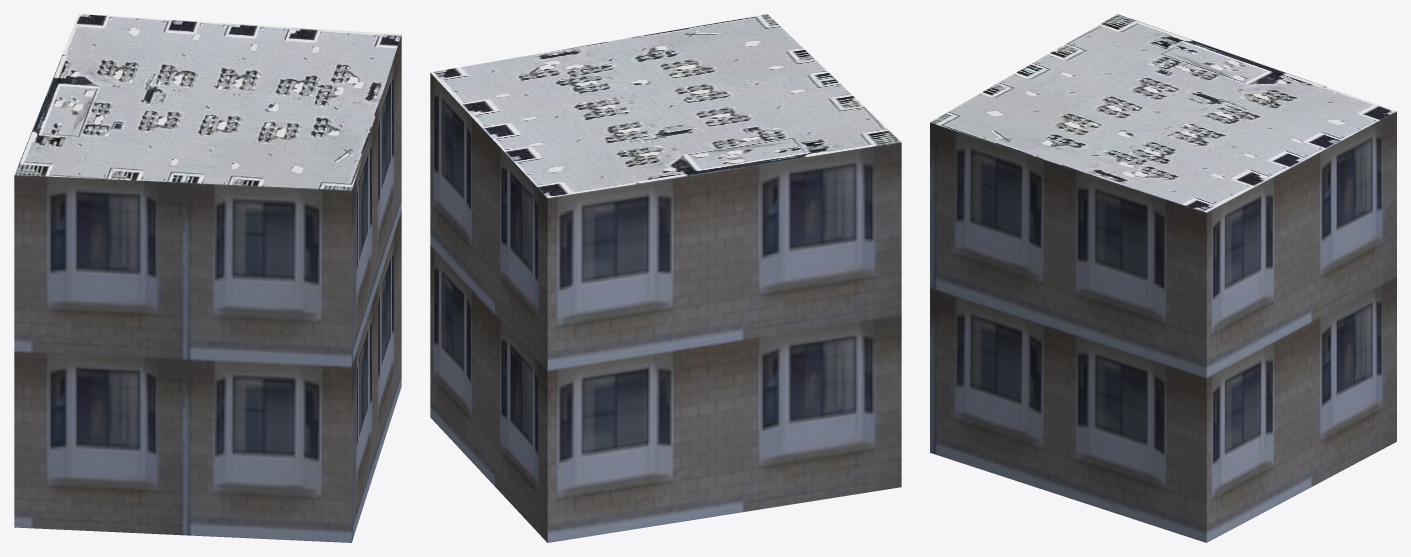
The model's file is ResTex__339.fbx.
The picture shows the model from 3 angles, left to right: view 1: azimuth 30°, elevation 25°; view 2: azimuth 150°, elevation 25°; view 3: azimuth 270°, elevation 25°; orthographic projection. The views are drawn at different scales.
Visible parts, largest first — view 1: CityEngineMaterial_3_m, CityEngineMaterial_2_m; view 2: CityEngineMaterial_3_m, CityEngineMaterial_2_m; view 3: CityEngineMaterial_3_m, CityEngineMaterial_2_m.
Part boxes in pixels (bbox=[...]): CityEngineMaterial_3_m: bbox=[14, 35, 401, 542]; CityEngineMaterial_2_m: bbox=[14, 14, 401, 190]; CityEngineMaterial_3_m: bbox=[430, 73, 901, 542]; CityEngineMaterial_2_m: bbox=[430, 14, 900, 197]; CityEngineMaterial_3_m: bbox=[930, 111, 1396, 542]; CityEngineMaterial_2_m: bbox=[930, 14, 1396, 212].
Bounding box in the file's own units: 7.74 × 6 × 7.68.
Materials: 2 (2 with a texture image).
